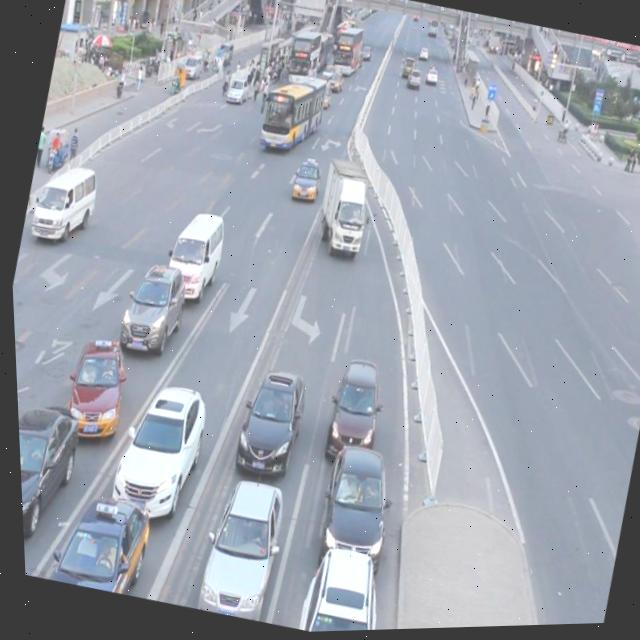bus: (309, 156, 376, 255)
car: (97, 367, 214, 527), (183, 466, 288, 625), (30, 473, 154, 600), (305, 434, 400, 571), (13, 383, 86, 548), (223, 358, 311, 480), (286, 534, 391, 634), (54, 327, 135, 443), (108, 250, 192, 358), (314, 353, 388, 472), (286, 157, 323, 205)
truck: (156, 205, 230, 309), (24, 156, 103, 250)
